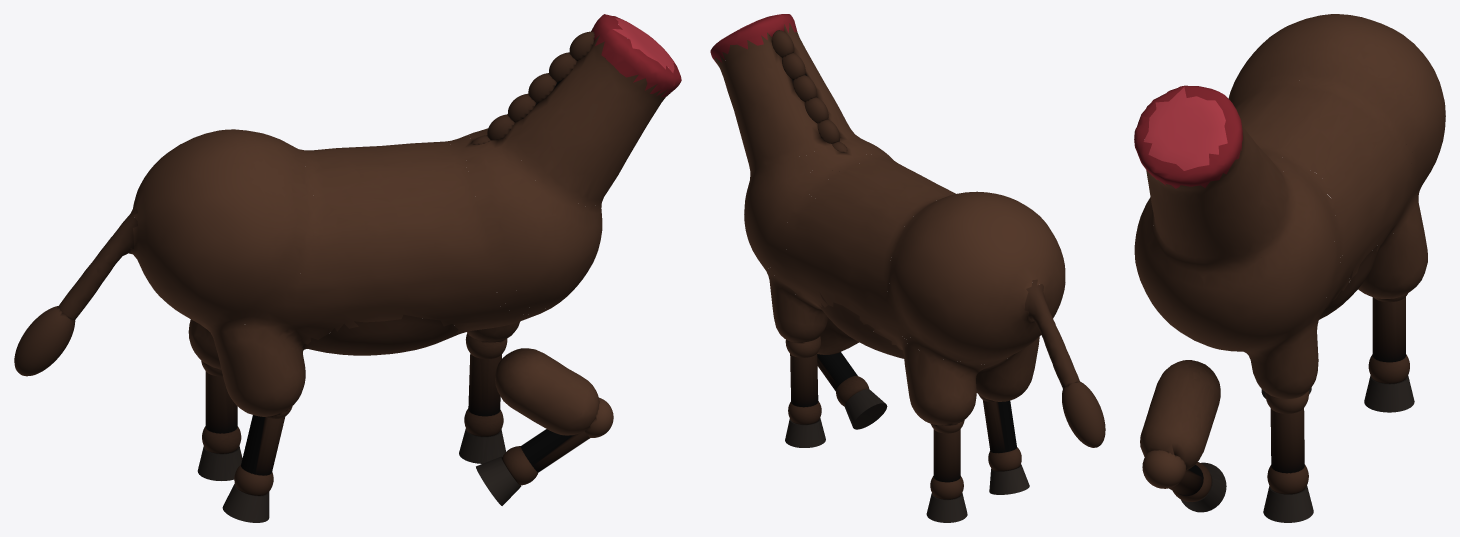
File: det-lacker-vatten.glb
3 views of the same model, side by side, from view 1: azimuth 30°, elevation 25°; view 2: azimuth 150°, elevation 25°; view 3: azimuth 270°, elevation 25° (orthographic). The views are drawn at different scales.
Parts seen in each view (by area): view 1: mula__r0, mula__r4, mula__r14, mula__r10, mula__r18, mula__r6, mula__r16, mula__r8, mula__r12, mula__r20, mula__r7, mula__r15 (+2 smaller); view 2: mula__r0, mula__r4, mula__r14, mula__r10, mula__r18, mula__r8, mula__r12, mula__r20, mula__r16, mula__r6, mula__r15, mula__r11 (+7 smaller); view 3: mula__r0, mula__r18, mula__r10, mula__r20, mula__r12, mula__r5, mula__r8, mula__r19, mula__r11, mula__r9, mula__r6, mula__r7.
Part boxes in pixels (x1,y1,x2,y2): mula__r0: [58, 14, 681, 435]; mula__r4: [14, 306, 75, 376]; mula__r14: [241, 415, 284, 475]; mula__r10: [468, 353, 501, 416]; mula__r18: [205, 371, 237, 433]; mula__r6: [520, 429, 589, 472]; mula__r16: [222, 483, 269, 522]; mula__r8: [476, 456, 521, 505]; mula__r12: [459, 428, 505, 463]; mula__r20: [197, 446, 242, 480]; mula__r7: [502, 446, 537, 485]; mula__r15: [234, 465, 273, 495]; mula__r0: [710, 14, 1079, 425]; mula__r4: [1062, 381, 1105, 447]; mula__r14: [983, 400, 1016, 453]; mula__r10: [790, 353, 818, 407]; mula__r18: [933, 429, 960, 482]; mula__r8: [844, 389, 887, 429]; mula__r12: [785, 418, 825, 447]; mula__r20: [926, 493, 967, 522]; mula__r16: [989, 464, 1029, 494]; mula__r6: [817, 352, 857, 391]; mula__r15: [988, 447, 1021, 471]; mula__r11: [788, 401, 821, 424]; mula__r0: [1134, 14, 1445, 470]; mula__r18: [1372, 297, 1405, 362]; mula__r10: [1270, 408, 1304, 473]; mula__r20: [1364, 375, 1414, 412]; mula__r12: [1263, 486, 1313, 522]; mula__r5: [1142, 450, 1186, 488]; mula__r8: [1181, 462, 1226, 512]; mula__r19: [1368, 354, 1409, 383]; mula__r11: [1267, 464, 1308, 494]; mula__r9: [1265, 391, 1308, 413]; mula__r6: [1169, 465, 1203, 495]; mula__r7: [1173, 462, 1211, 501].
Bounding box in the file's own units: 2.76 × 2.17 × 1.28.
